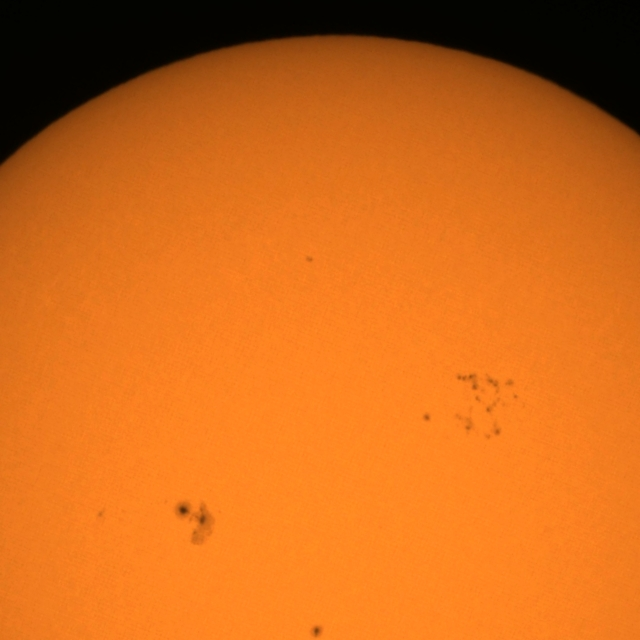sunspot: (465, 372, 523, 414), (453, 400, 508, 442), (175, 497, 218, 550), (454, 412, 476, 433), (484, 425, 502, 441), (309, 624, 325, 640), (421, 412, 432, 424), (96, 509, 106, 521), (304, 254, 314, 264)
